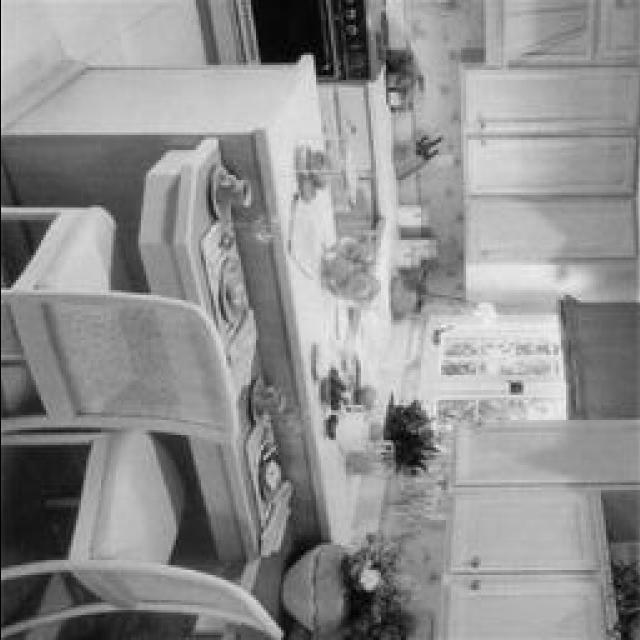chair: (2, 425, 283, 639), (1, 213, 239, 438)
